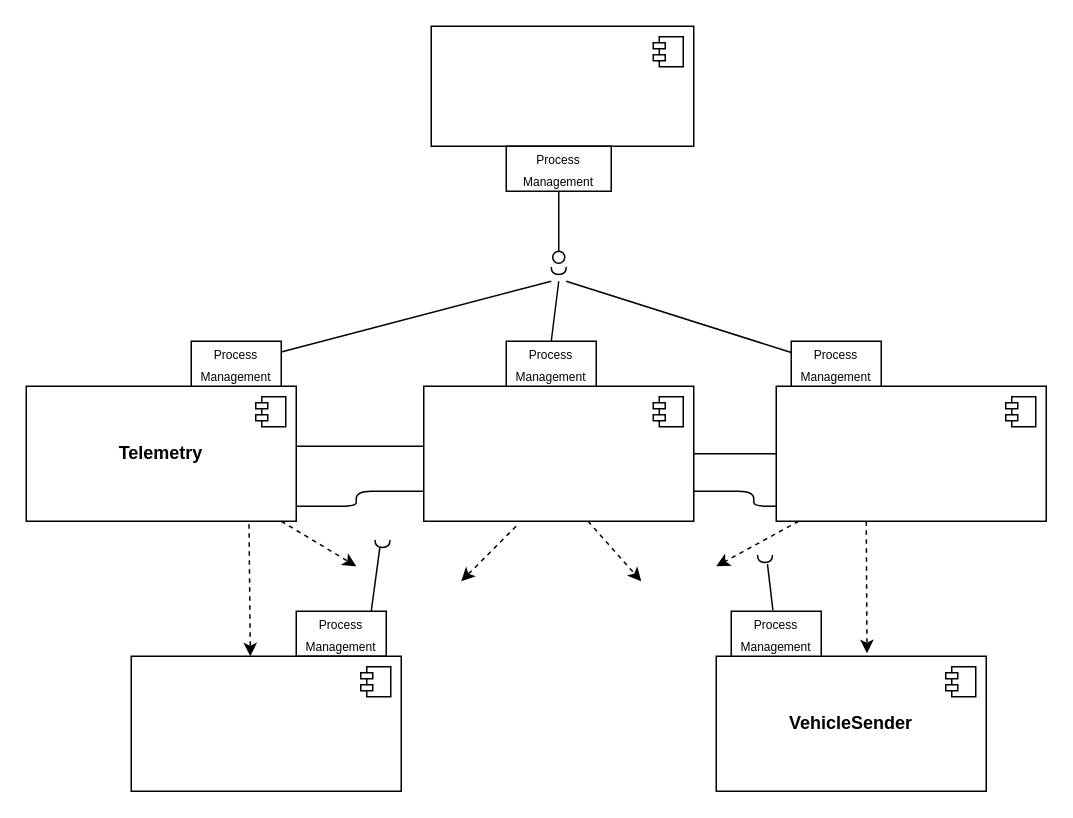
Image size: 1073x818. Some labels were removed from this diagram. The centre of each missing label's shape, as x and y in pixels:
"Braking" belongs at pixel 558 453.
"Driving" belongs at pixel 910 453.
"TelemetrySender" belongs at pixel 265 723.
"Watchdog" belongs at pixel 562 85.
